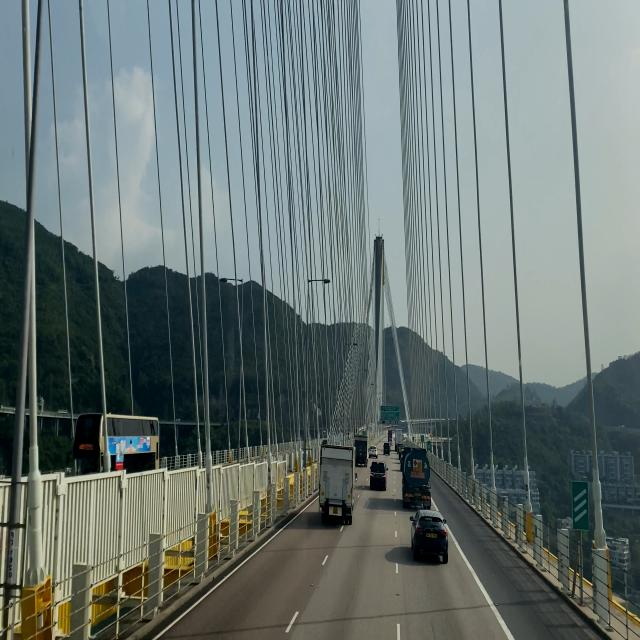Vehicle: (319, 446, 357, 530), (408, 508, 451, 563), (398, 446, 432, 510), (368, 457, 389, 494), (352, 433, 370, 468)
